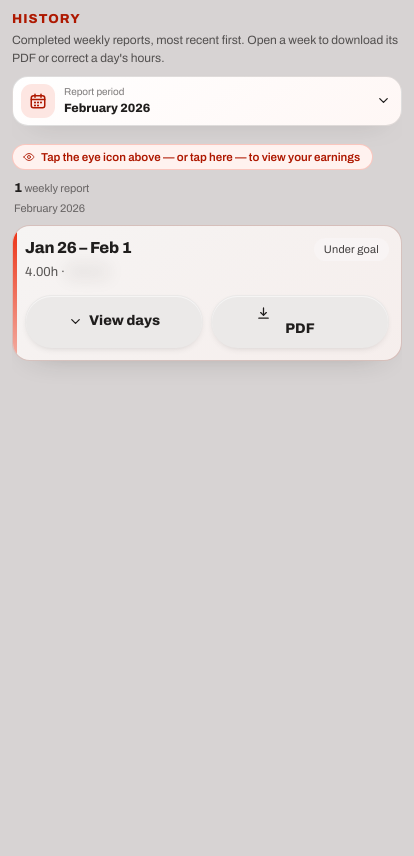
Scenario: opening the editor › names each day's action so the seven buttons are distinguishable
The image size is (414, 856).
Click the button "View days" at x=114, y=321, box [25,294,203,348]
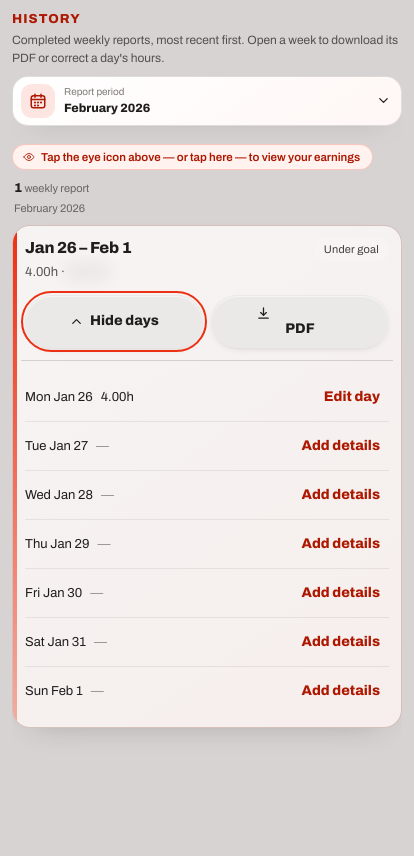
Expected: the button with aria-label "Edit hours for Mon Jan 26" is shown, [315,375,389,419]
Expected: the button with aria-label "Add hours for Tue Jan 27" is shown, [292,424,389,468]
